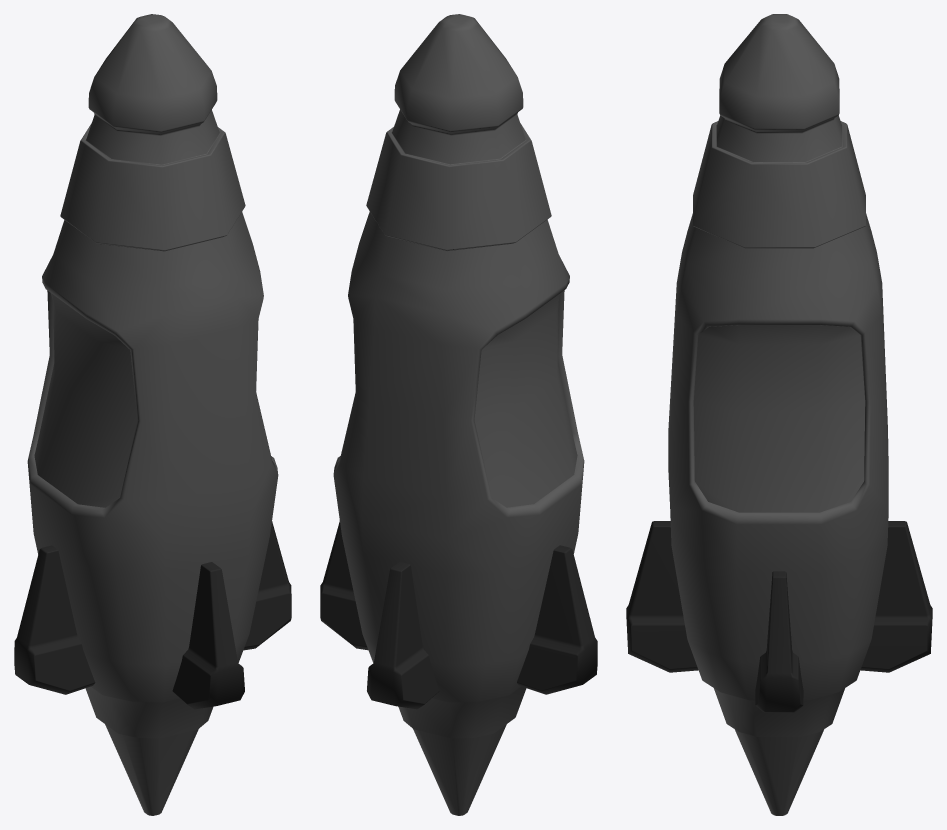
File: _Rocket_01.fbx
The picture shows the model from 3 angles, left to right: view 1: azimuth 30°, elevation 25°; view 2: azimuth 150°, elevation 25°; view 3: azimuth 270°, elevation 25°; orthographic projection.
Visible parts, largest first — view 1: Rocket_01; view 2: Rocket_01; view 3: Rocket_01.
Part boxes in pixels (x1=…): Rocket_01: x1=14, y1=14, x2=291, y2=815; Rocket_01: x1=320, y1=14, x2=597, y2=815; Rocket_01: x1=626, y1=14, x2=932, y2=815.
Bounding box in the file's own units: 79.39 × 227 × 79.39.
Materials: 1 (1 with a texture image).
